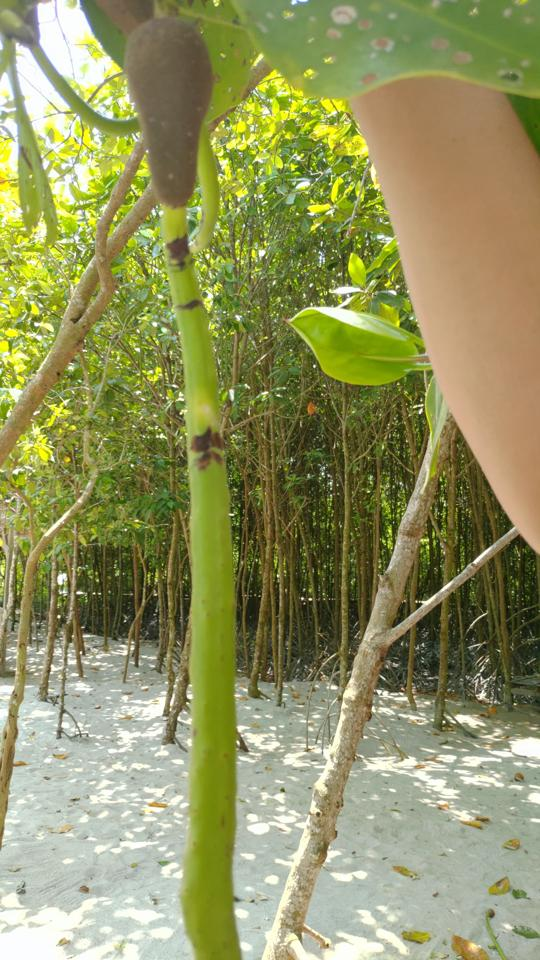setengah matang: (110, 10, 266, 958)
